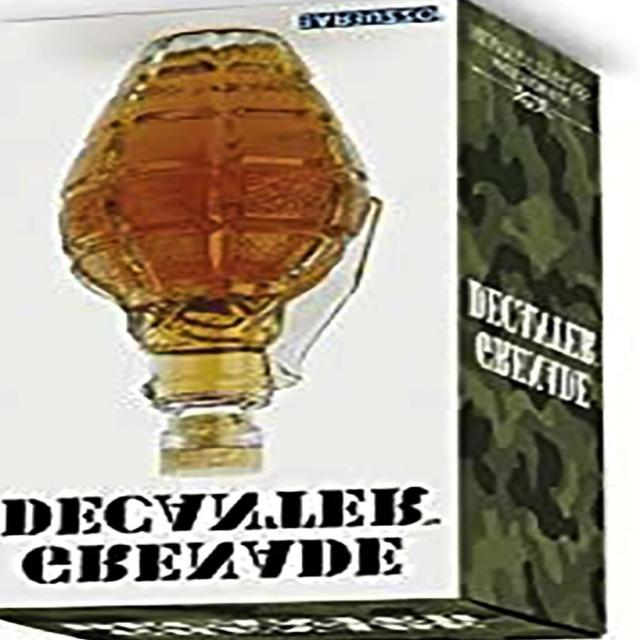grenade: (58, 30, 384, 408)
